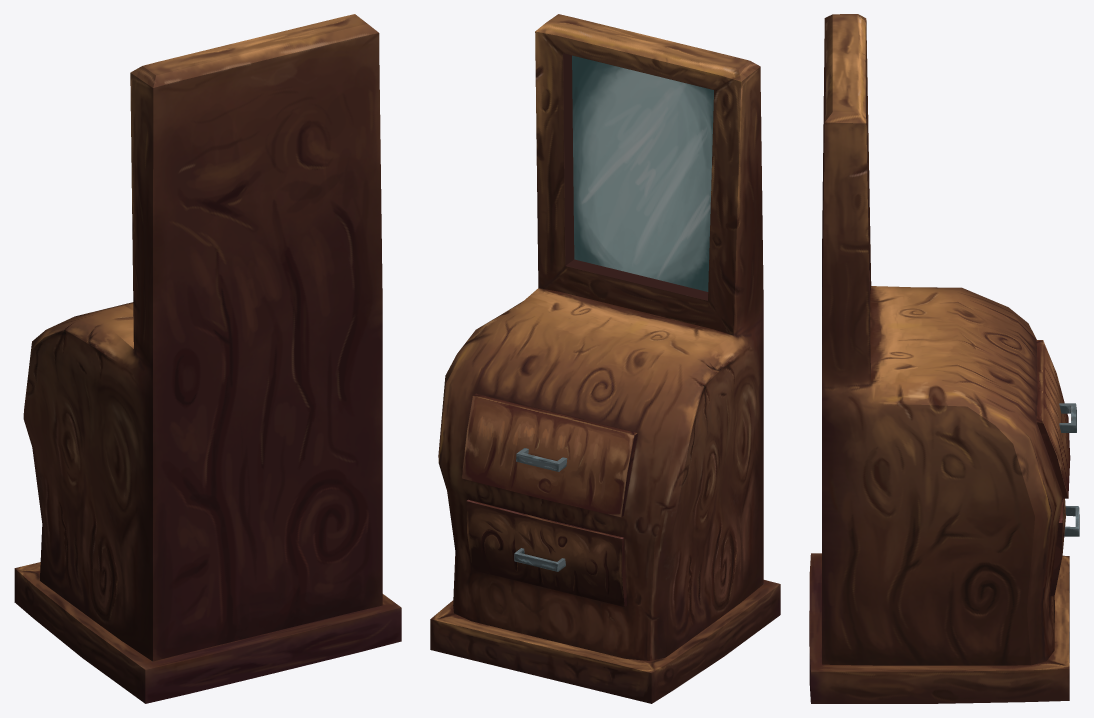
File: tocador.fbx
3 views of the same model, side by side, from view 1: azimuth 30°, elevation 25°; view 2: azimuth 150°, elevation 25°; view 3: azimuth 270°, elevation 25° (orthographic). The views are drawn at different scales.
Visible parts, largest first — view 1: Tocador; view 2: Tocador, Cajones; view 3: Tocador, Cajones.
Boxes of the visible parts, <box> form: Tocador: <box>14,14,401,703</box>; Tocador: <box>430,14,780,703</box>; Cajones: <box>461,393,637,606</box>; Tocador: <box>809,14,1069,703</box>; Cajones: <box>1036,340,1079,596</box>.
Size of the model in its own units: 73.53 by 160 by 67.13.
